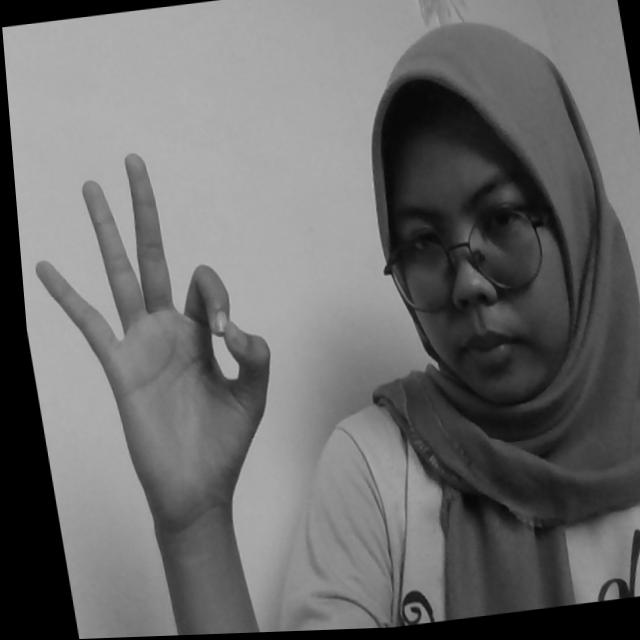F: (13, 138, 288, 522)
